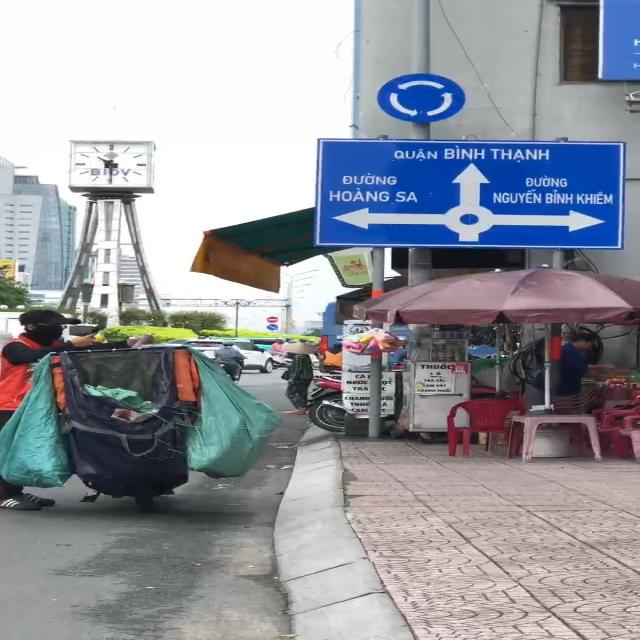Bien bao noi giao nhau chay theo vong xuyen: (373, 72, 474, 125)
